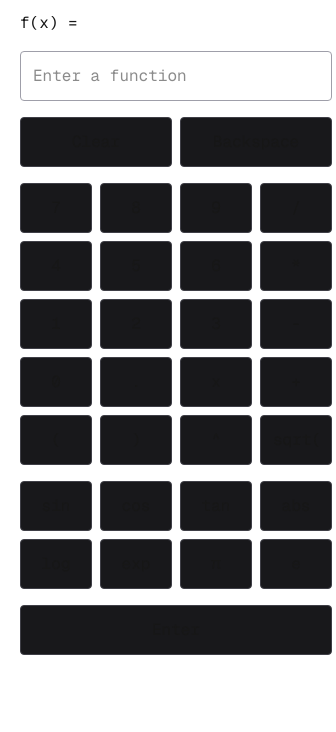
Scenario: Game Integration Tests › invalid expressions display an error
Type "x +" into the field named "function" at (176, 76), box [20,51,332,101]
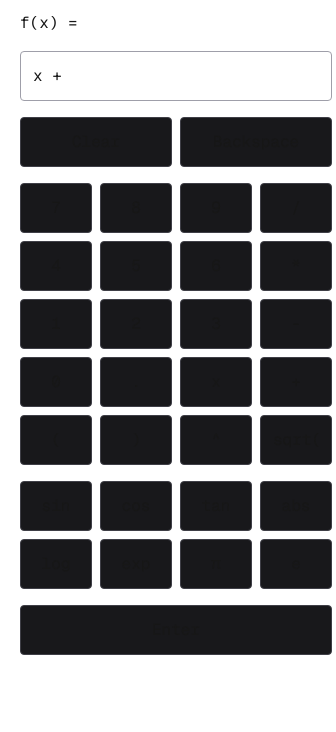
Click the button "Enter" at (176, 630), box [20,605,332,655]
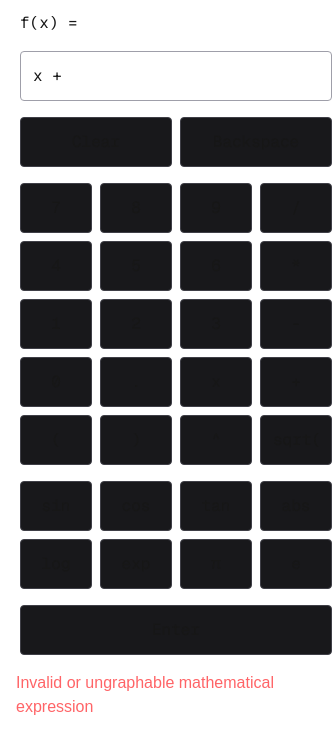
Expected: the message reads "Invalid or ungraphable mathematical expression", [16,674,274,715]
